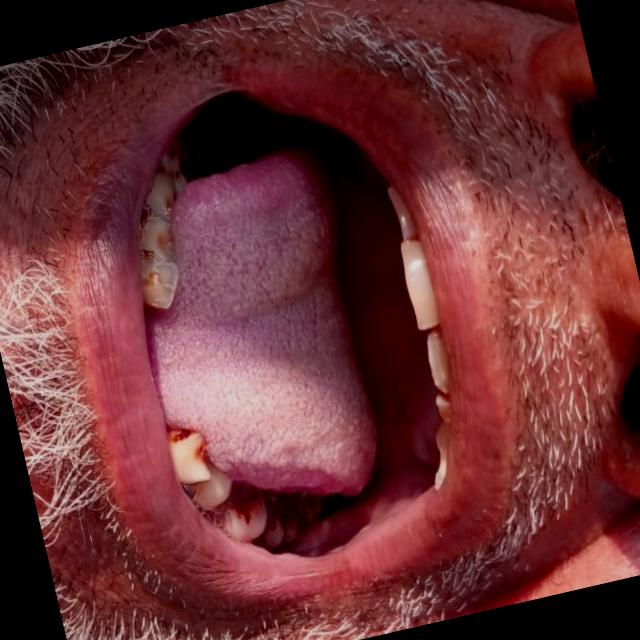No Cancer: (102, 90, 486, 598)
